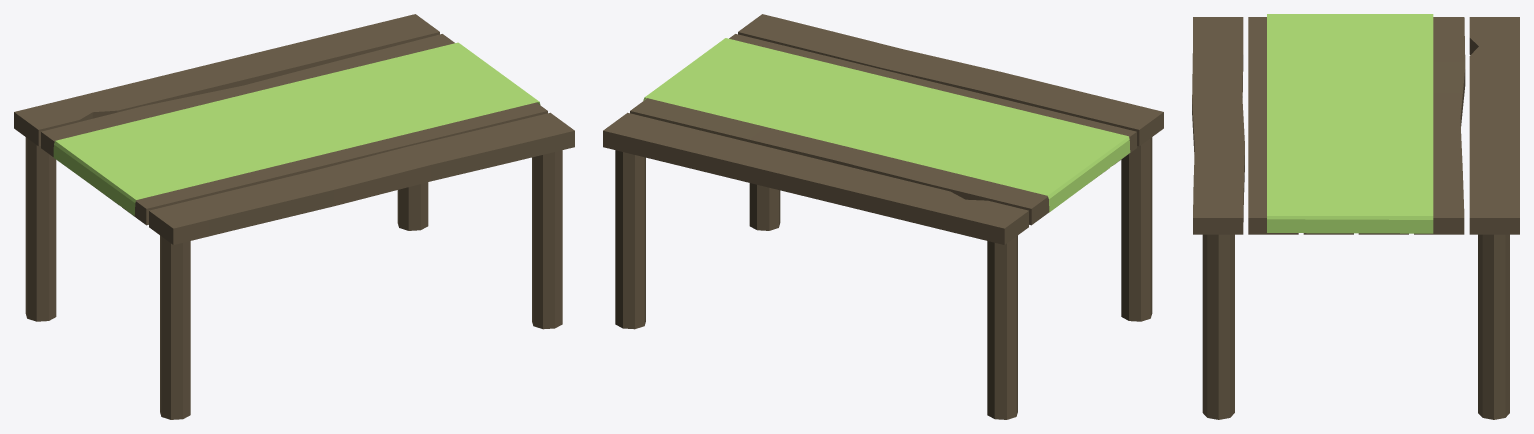
Rendered from Table-green.fbx.
3 renders of one model, left to right at view 1: azimuth 30°, elevation 25°; view 2: azimuth 150°, elevation 25°; view 3: azimuth 270°, elevation 25°, orthographic. The views are drawn at different scales.
Parts seen in each view (by area): view 1: Cube.005, Deco1_low; view 2: Cube.005, Deco1_low; view 3: Cube.005, Deco1_low.
Part boxes in pixels (x1,y1,x2,y2): Cube.005: (14,14,574,419); Deco1_low: (53,42,540,215); Cube.005: (603,14,1163,419); Deco1_low: (643,38,1130,212); Cube.005: (1192,17,1519,419); Deco1_low: (1267,14,1433,233).
Bounding box in the file's own units: 705 × 332 × 480.
